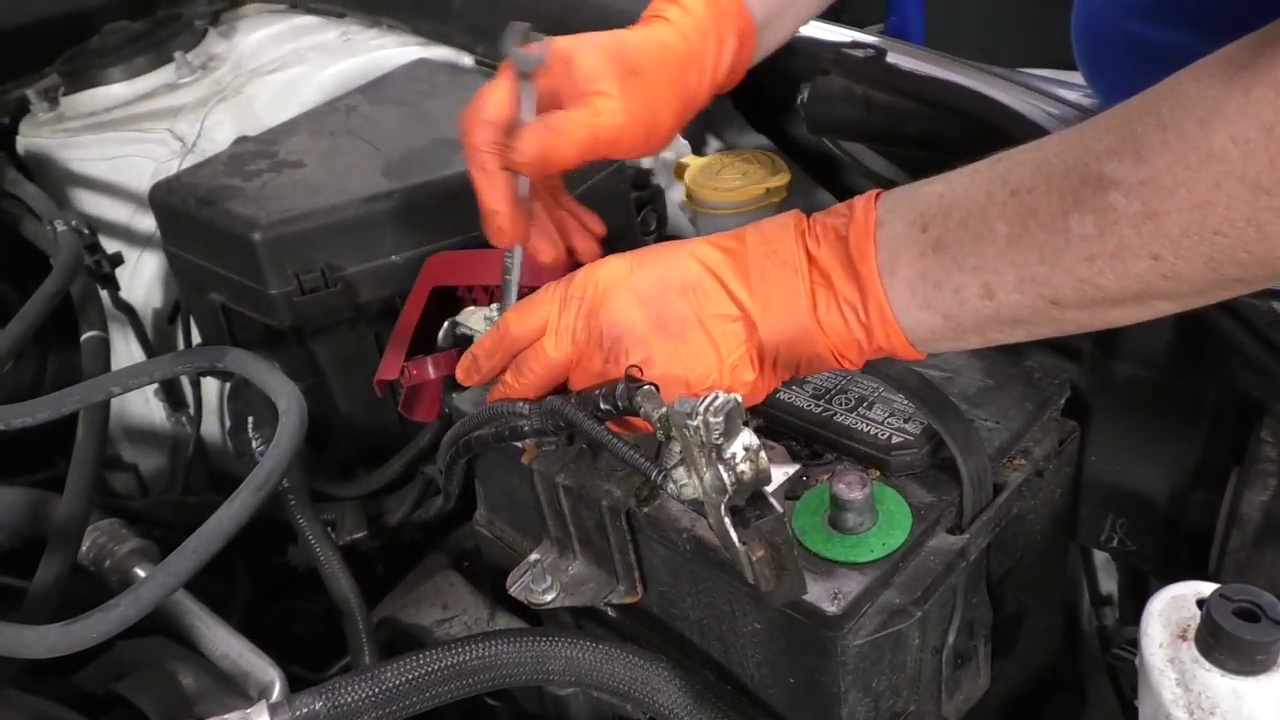battery: (422, 232, 1088, 580)
neg_disconnected: (780, 443, 945, 599)
pos_touched: (403, 213, 636, 440)
